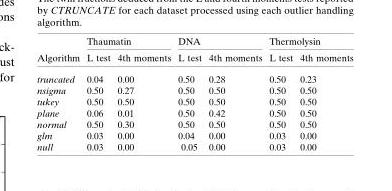table: (36, 36, 352, 151)
table column: (204, 36, 265, 151), (113, 36, 173, 151), (295, 36, 352, 151), (36, 36, 82, 151), (82, 36, 113, 151), (173, 36, 204, 151), (265, 36, 295, 151)
table column header: (36, 36, 352, 68)
table row: (36, 49, 352, 68), (36, 68, 352, 84), (36, 36, 352, 49), (36, 84, 352, 96), (36, 118, 352, 130), (36, 96, 352, 107), (36, 107, 352, 118), (36, 130, 352, 141), (36, 141, 352, 151)
table spanning cell: (36, 36, 82, 68), (173, 36, 265, 49), (82, 36, 173, 49), (265, 36, 352, 49)
